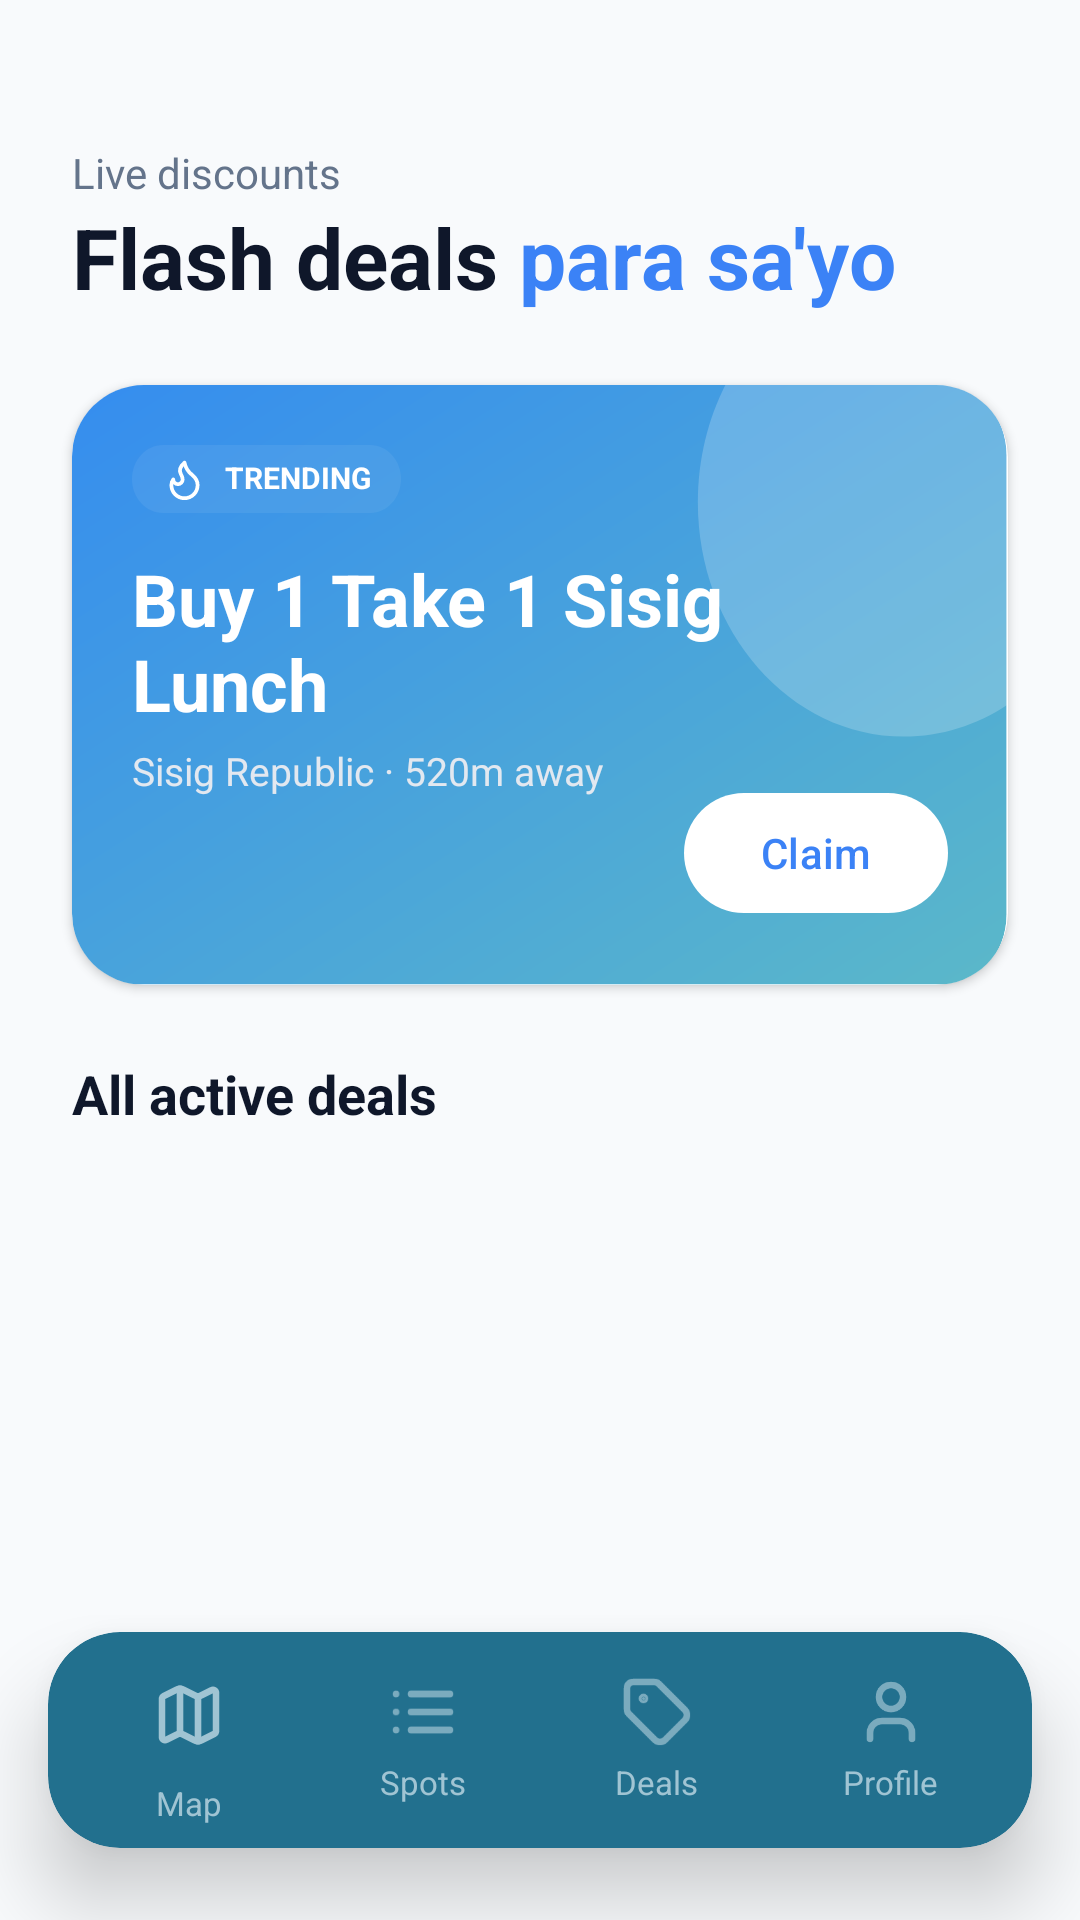

Named icons in this screenshot (1080px x 1920px) and their bounding boxes, detection(x1, y1, x2, y2):
list: detection(393, 1690, 453, 1734)
tag: detection(623, 1678, 690, 1745)
